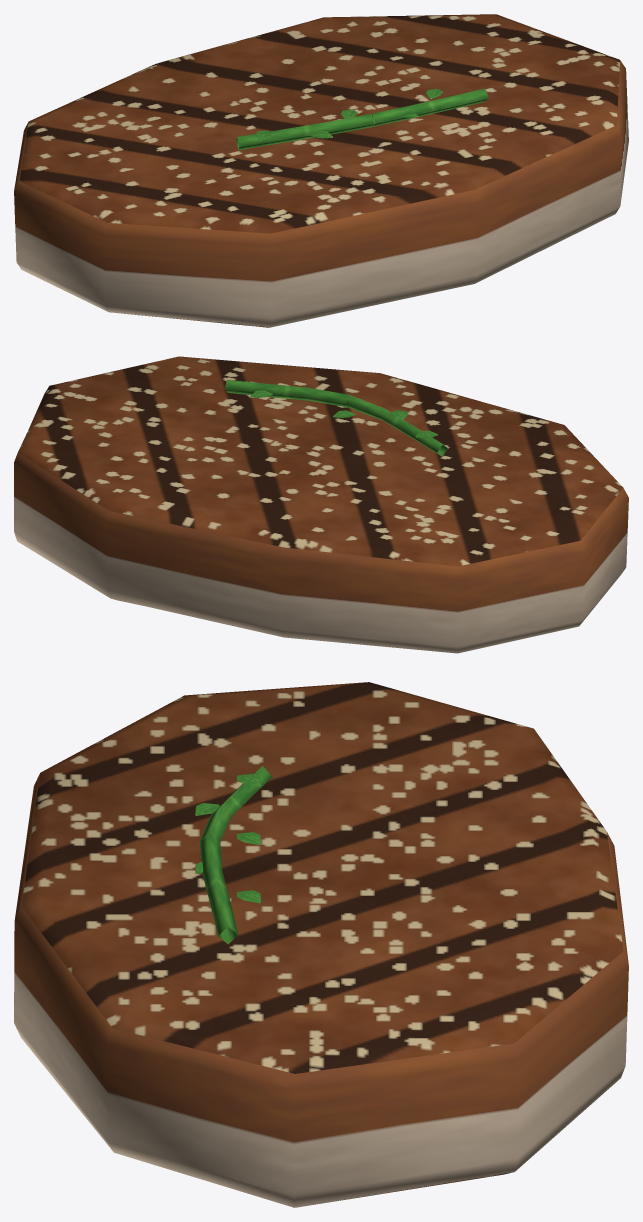
File: grilledsteak.obj
3 views of the same model, one above another, from view 1: azimuth 30°, elevation 25°; view 2: azimuth 150°, elevation 25°; view 3: azimuth 270°, elevation 25° (orthographic). The views are drawn at different scales.
Visible parts, largest first — view 1: grilledsteak_0_surface; view 2: grilledsteak_0_surface; view 3: grilledsteak_0_surface.
Part boxes in pixels (x1,y1,x2,y2): grilledsteak_0_surface: (14,14,628,327); grilledsteak_0_surface: (14,356,628,653); grilledsteak_0_surface: (14,682,628,1207).
Size of the model in its own units: 0.2759 by 0.0605 by 0.1786.
Materials: 1 (1 with a texture image).
